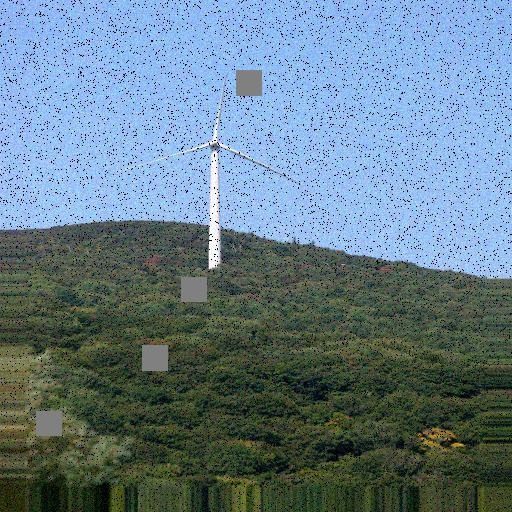wind turbine: (123, 73, 297, 266)
